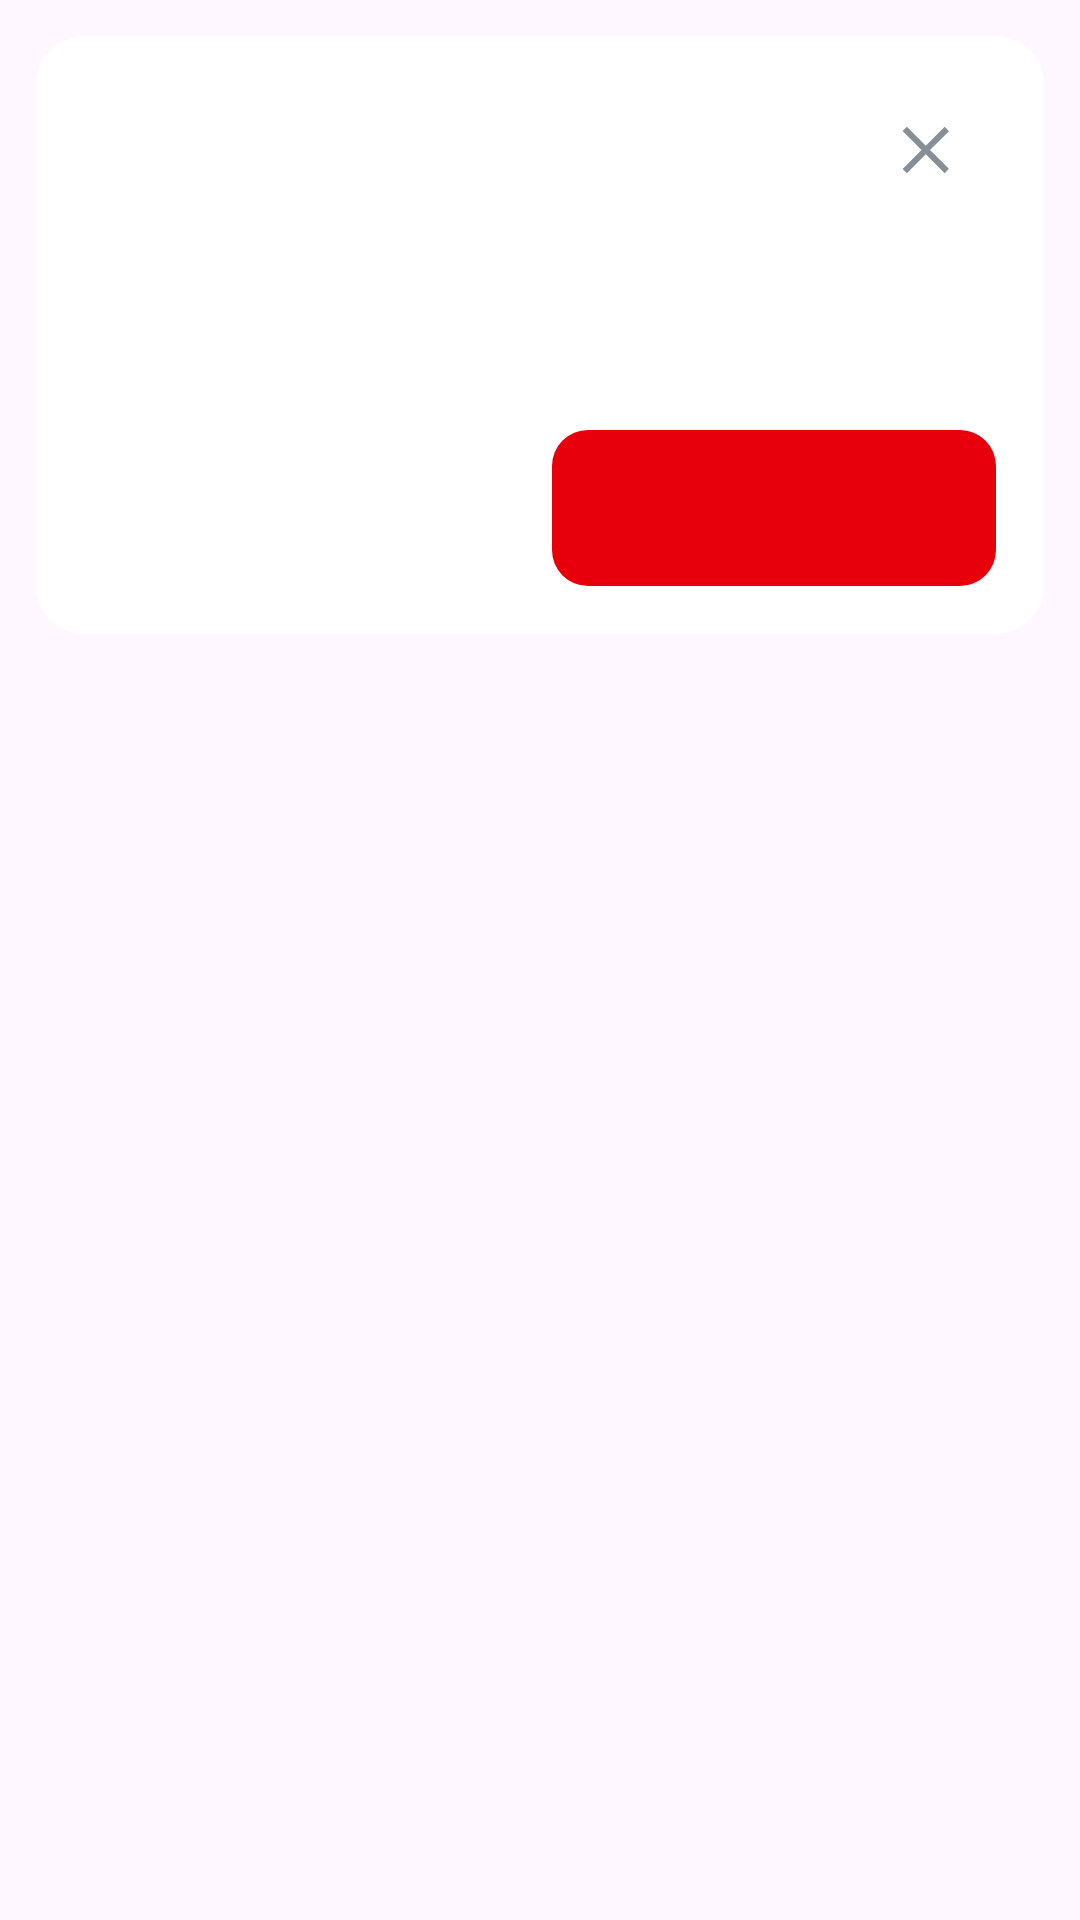

Locate icon controls on the screen. Image size 1080px x 1920px, boxes as (x1, y1, x2, y2).
Close dialog: (903, 127, 949, 173)
